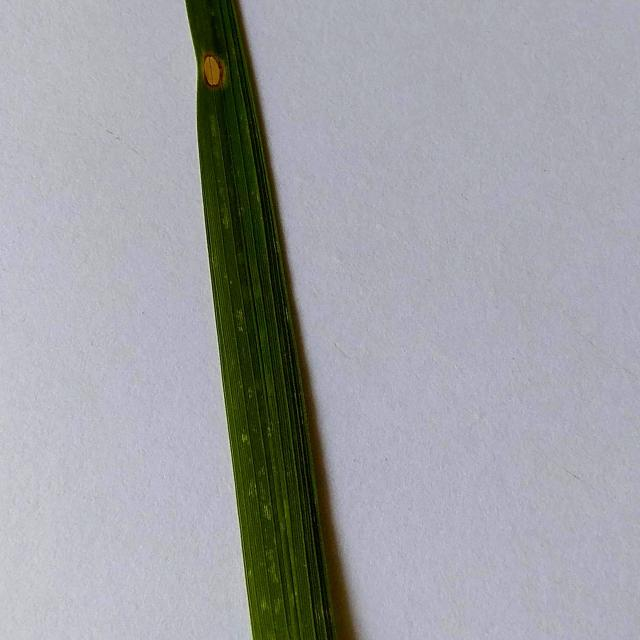Leaf_Blast: (188, 36, 228, 90)
